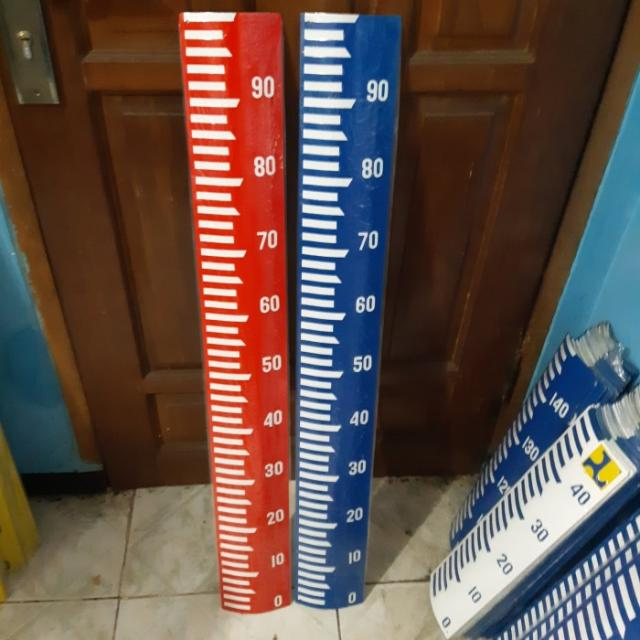10: (346, 547, 363, 566), (270, 551, 286, 569)
20: (267, 508, 285, 526), (346, 506, 364, 524)
30: (264, 460, 285, 479), (349, 459, 367, 477)
40: (262, 408, 284, 429), (349, 408, 369, 428)
50: (261, 354, 283, 374), (352, 355, 374, 374)
60: (257, 293, 280, 315), (354, 295, 376, 315)
70: (256, 227, 280, 251), (355, 230, 380, 252)
80: (254, 154, 278, 179), (361, 156, 386, 180)
90: (251, 73, 277, 100), (366, 79, 390, 104)
staff: (178, 10, 290, 615), (300, 10, 403, 607)
